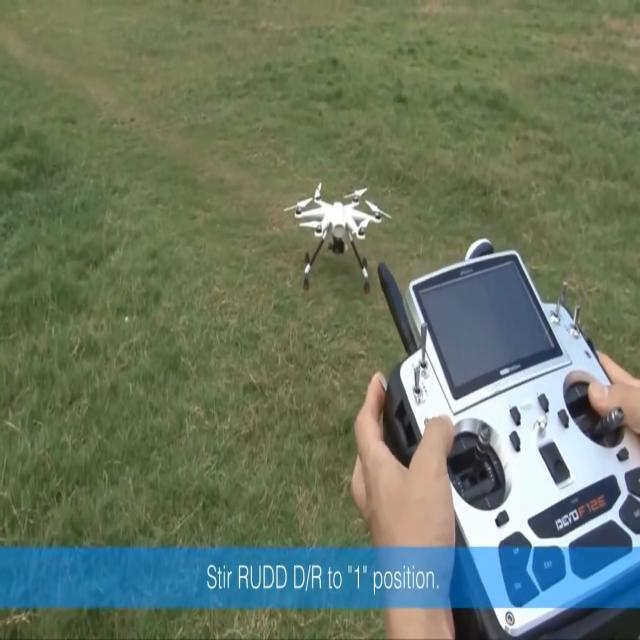drone: (283, 180, 392, 295)
